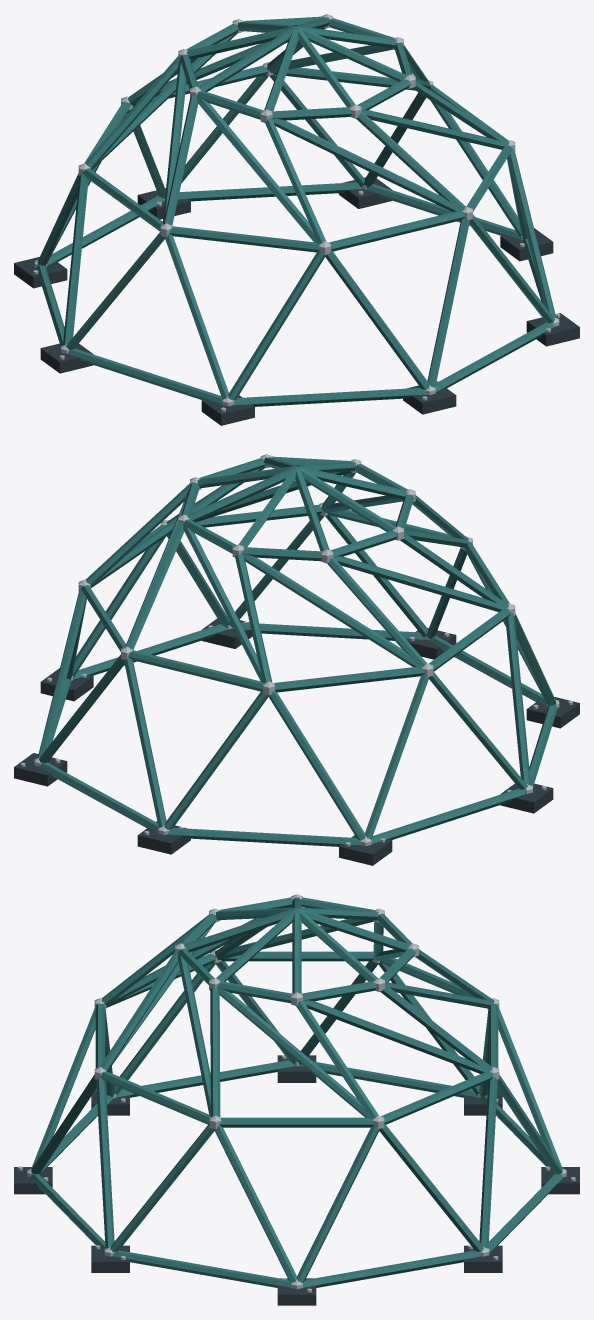
Rendered from b09_dome_climber.glb.
3 renders of one model, top to bottom at view 1: azimuth 30°, elevation 25°; view 2: azimuth 150°, elevation 25°; view 3: azimuth 270°, elevation 25°, orthographic.
Visible parts, largest first — view 1: b09_dome_climber; view 2: b09_dome_climber; view 3: b09_dome_climber.
Part boxes in pixels (left/top/right/bottom): b09_dome_climber: left=14, top=14, right=579, bottom=425; b09_dome_climber: left=14, top=454, right=579, bottom=865; b09_dome_climber: left=14, top=894, right=579, bottom=1305.
Size of the model in its own units: 3.22 by 1.74 by 3.22.
